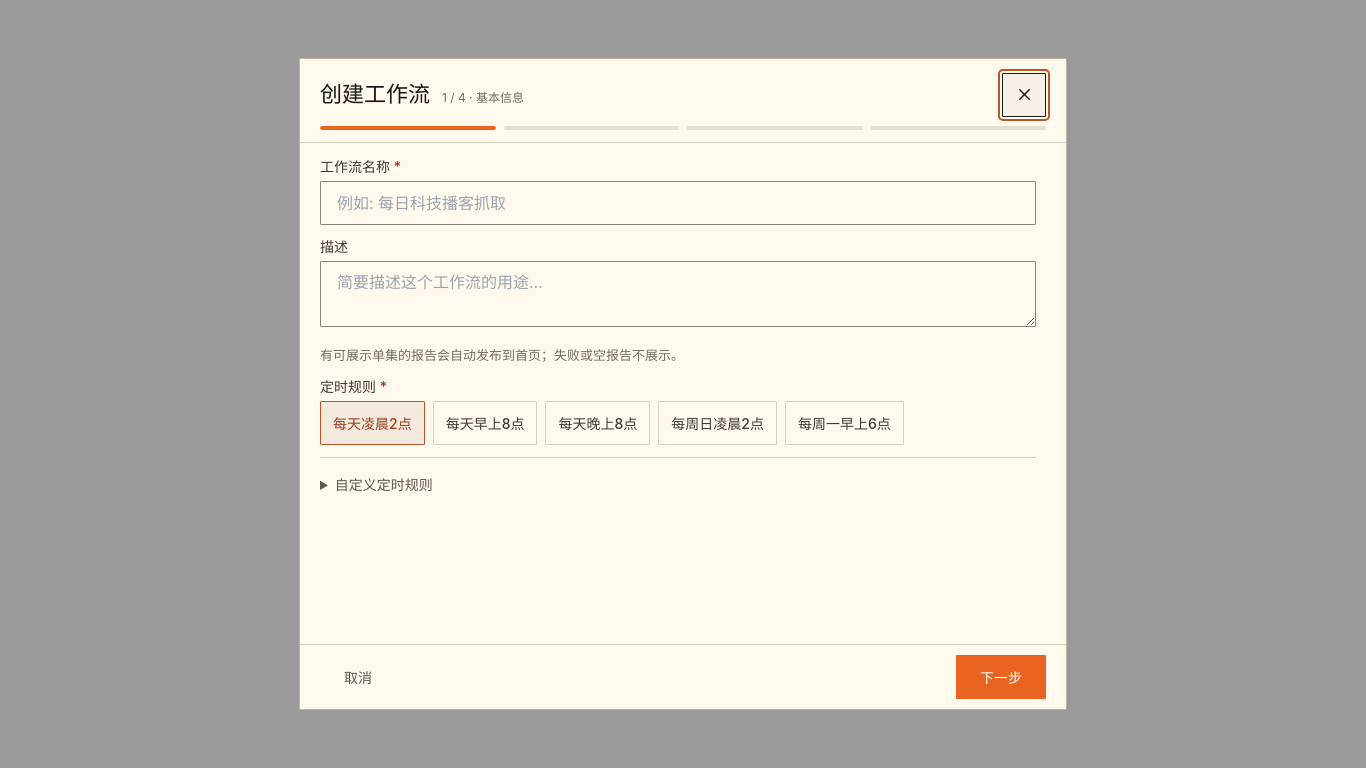
Test: WorkflowFormModal coverage filter (#419) › shows the filter unchecked by default in create mode and only requests it when enabled
Type "覆盖筛选工作流" into the field with placeholder "例如: 每日科技播客抓取" at (678, 203), box [320, 181, 1036, 225]
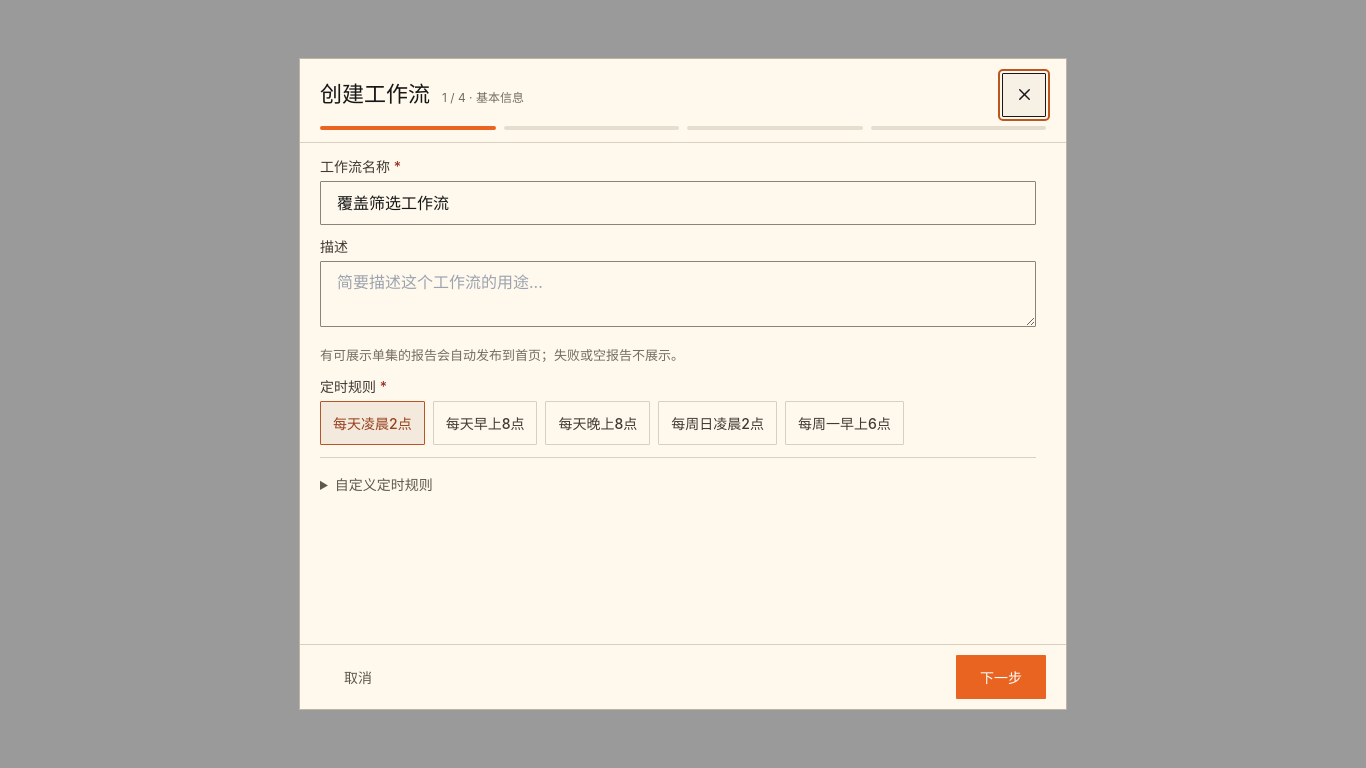
Click the button "下一步" at (1001, 677), box [956, 655, 1046, 699]
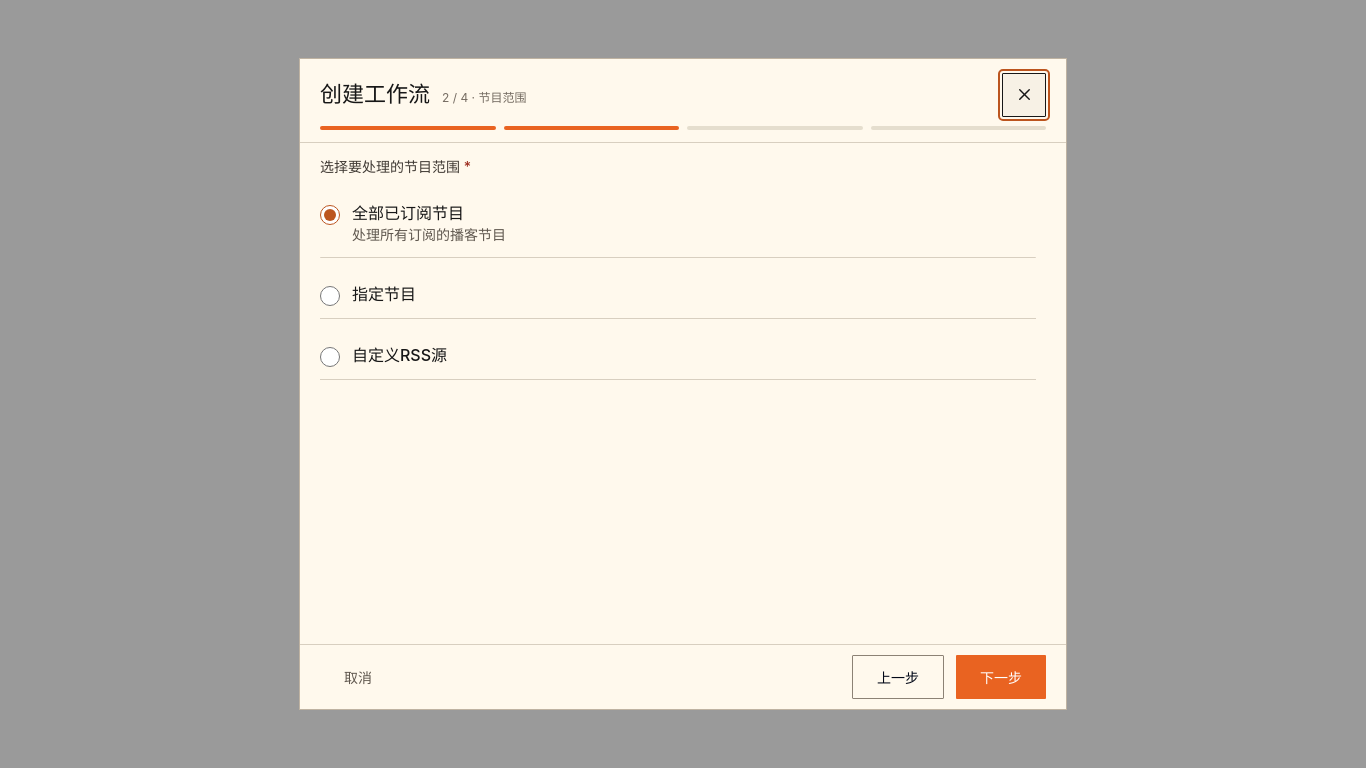
Now the text "指定节目" is shown
Click the text "指定节目" at (384, 294), box [352, 284, 416, 304]
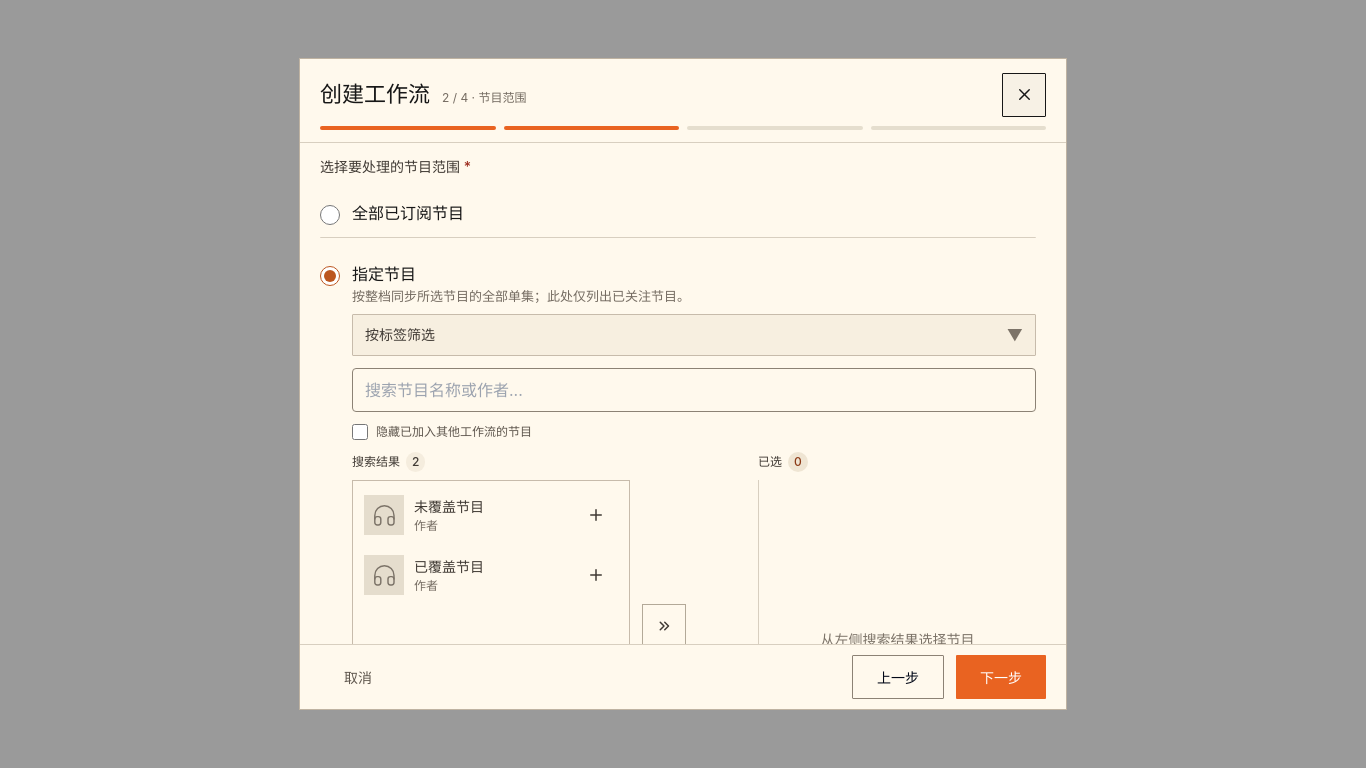
Now the checkbox labelled "隐藏已加入其他工作流的节目" is not checked
Now the text "未覆盖节目" is shown, box [414, 498, 484, 515]
Click the checkbox labelled "隐藏已加入其他工作流的节目" at (360, 432), box [352, 424, 368, 440]
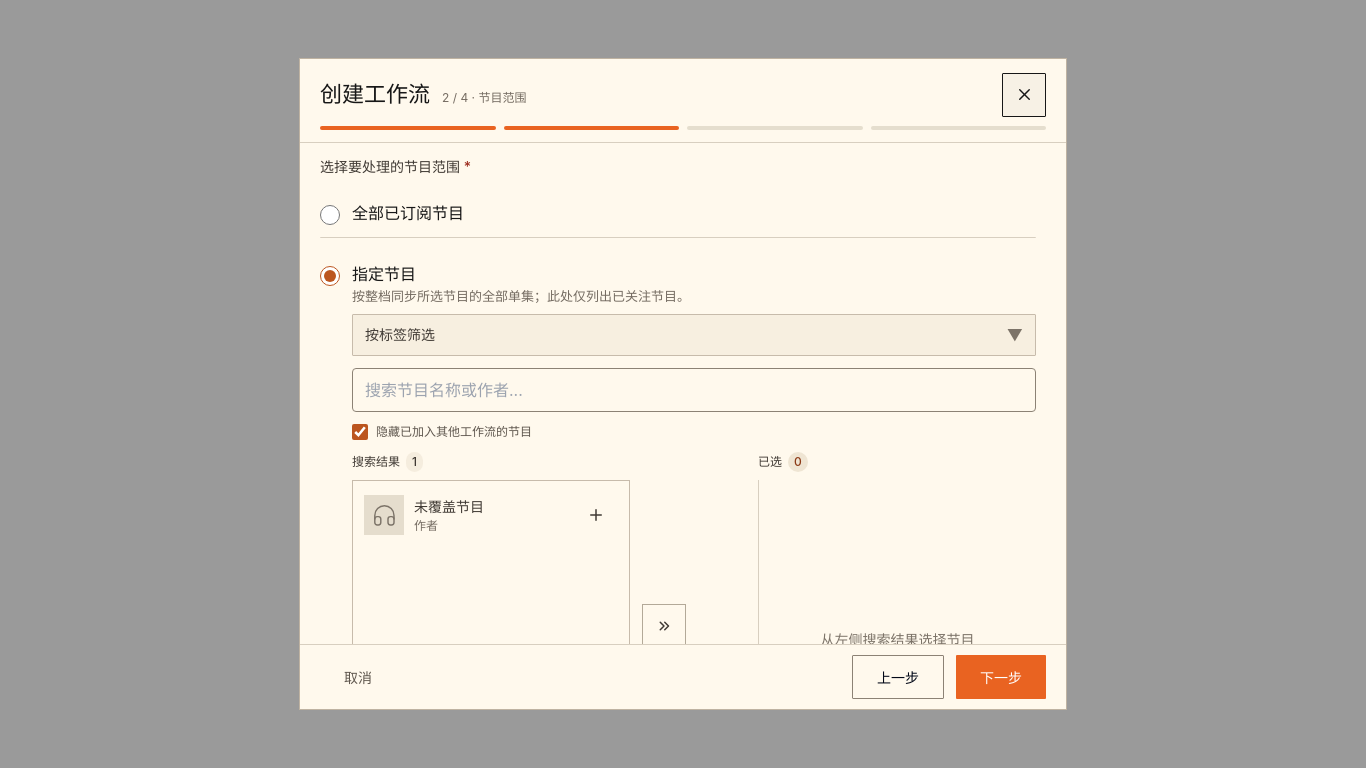
Now the button "已覆盖节目" is gone
Click the checkbox labelled "隐藏已加入其他工作流的节目" at (360, 432), box [352, 424, 368, 440]
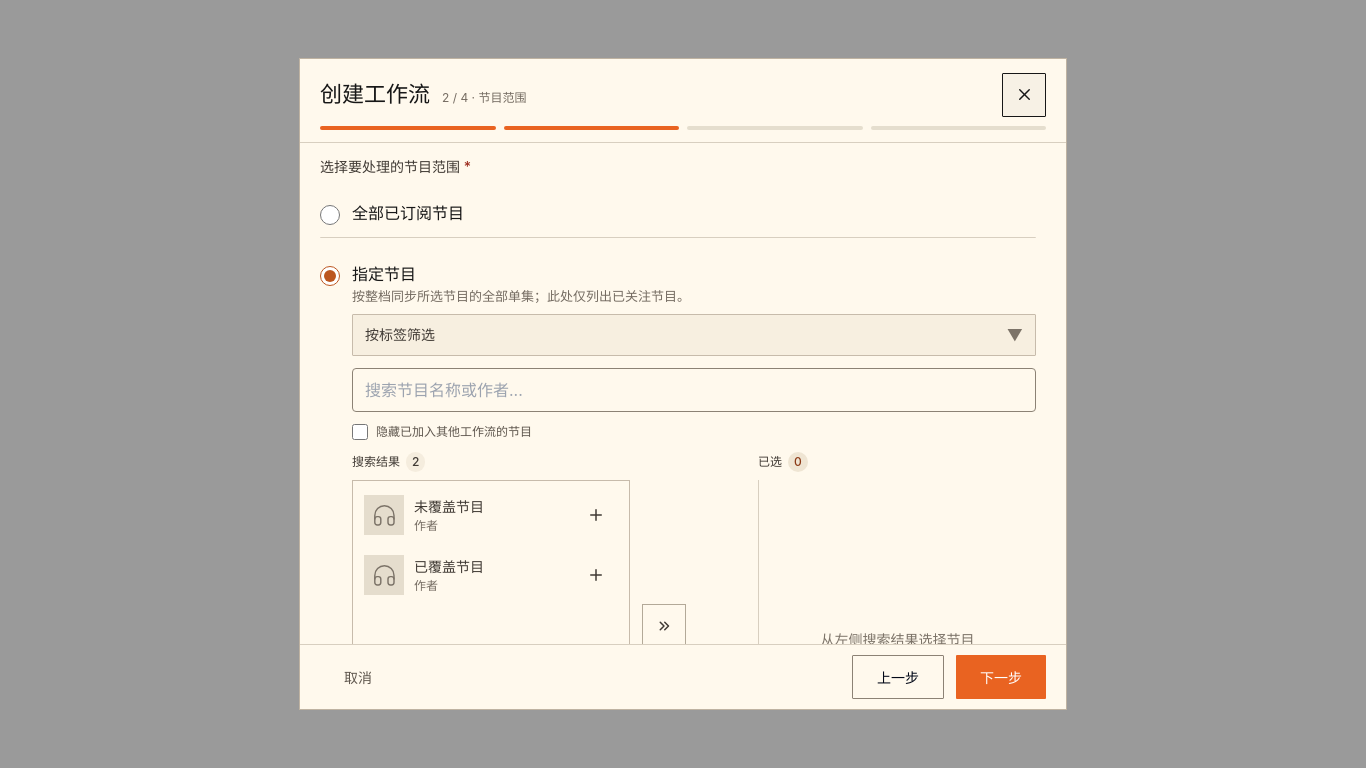
Now the text "已覆盖节目" is shown, box [414, 558, 484, 575]
